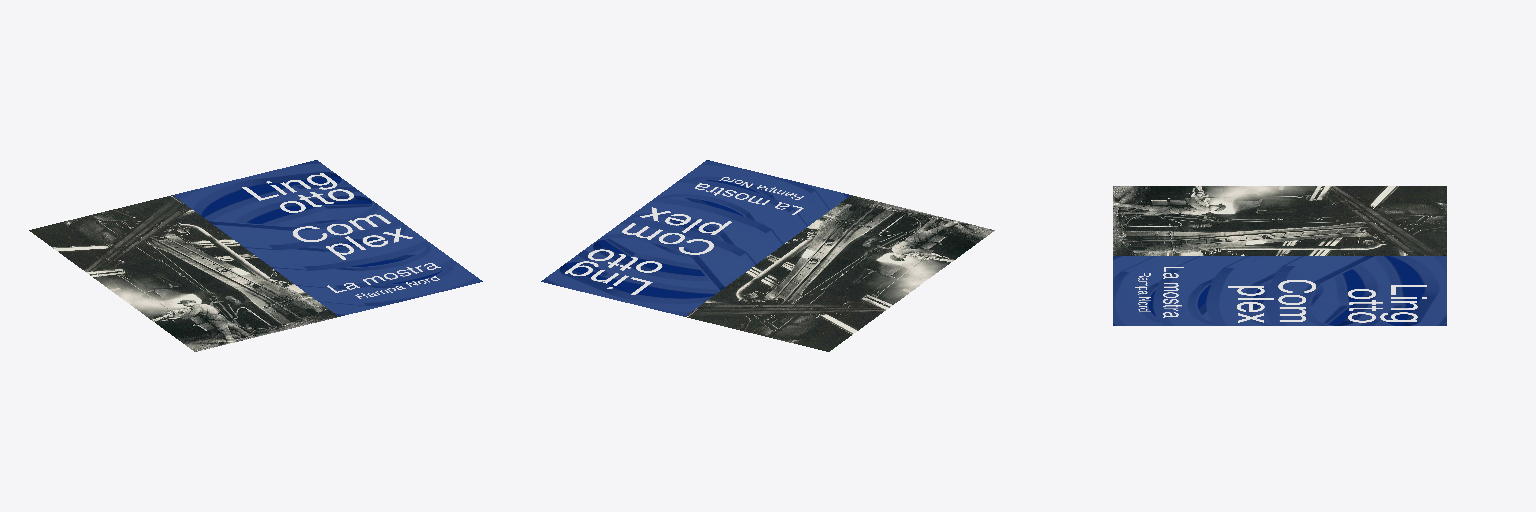
The picture shows the model from 3 angles: view 1: azimuth 30°, elevation 25°; view 2: azimuth 150°, elevation 25°; view 3: azimuth 270°, elevation 25°; orthographic projection.
Visible parts, largest first — view 1: Plane001; view 2: Plane001; view 3: Plane001.
Boxes of the visible parts, <box> form: Plane001: <box>29,160,482,351</box>; Plane001: <box>541,160,994,351</box>; Plane001: <box>1113,186,1446,325</box>.
Bounding box in the file's own units: 39.37 × 0 × 39.37.
1 materials, 1 textured.